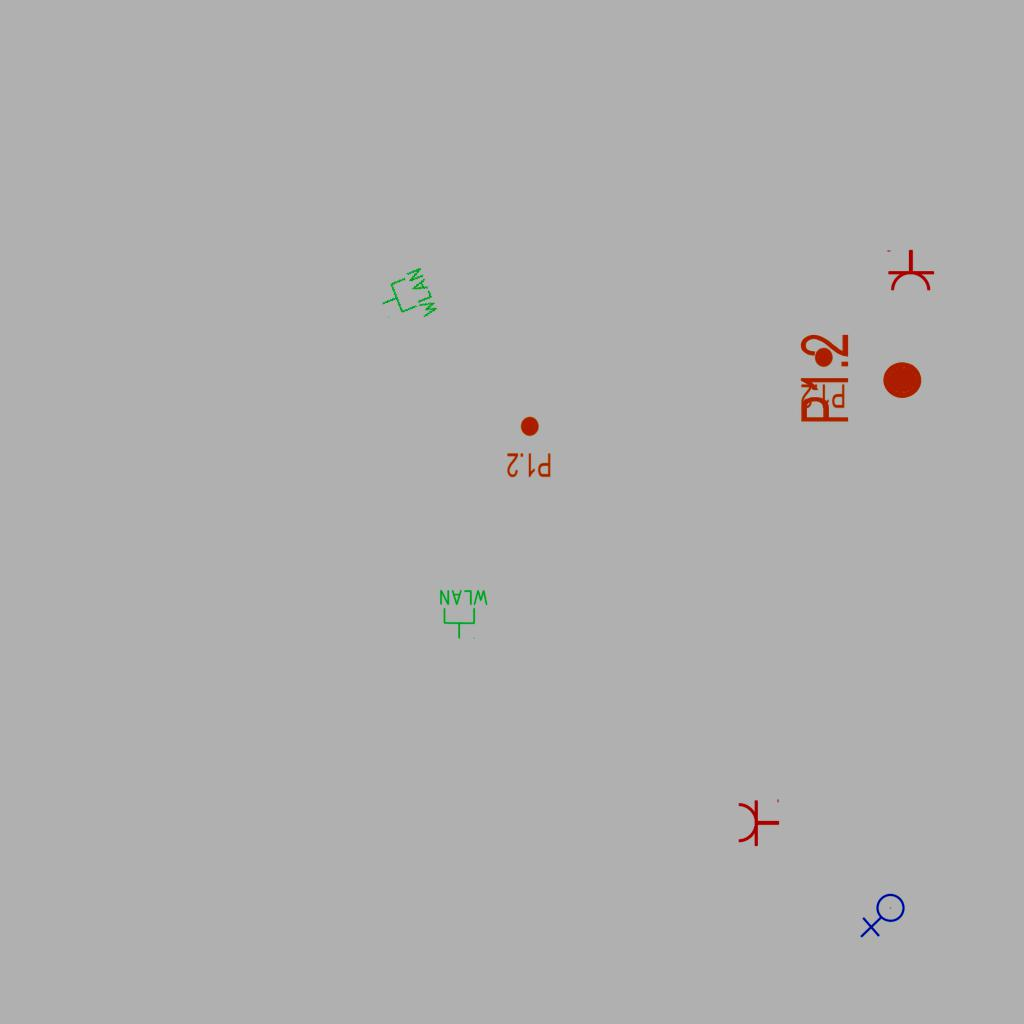Downlight_LED_Einbauleuchten_Flur: (797, 332, 925, 425), (506, 415, 552, 479), (800, 346, 846, 410)
Elektroanschluss_allgemein_230V_Geraeteanschlussdose_230V: (860, 893, 909, 940)
Schukosteckdose_einfach: (885, 249, 935, 292), (737, 797, 780, 847)
WLAN: (373, 265, 441, 333), (438, 588, 490, 640)
